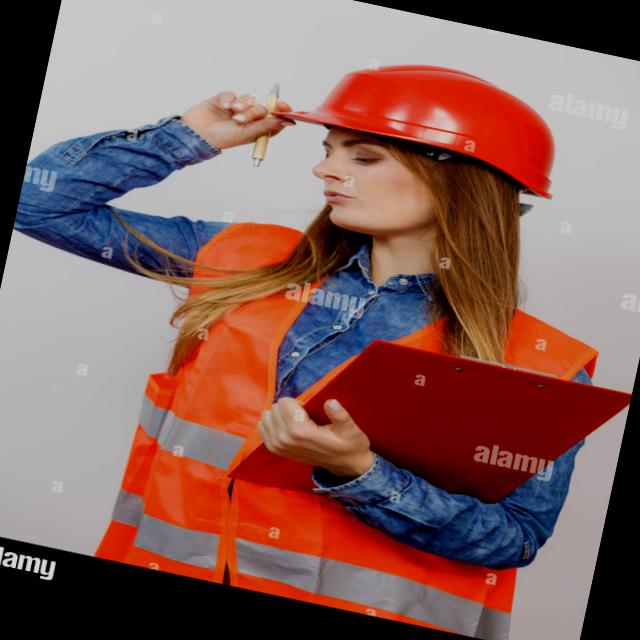helmet: (248, 28, 592, 224)
no-goggles: (288, 120, 526, 211)
vest: (80, 194, 592, 640)
